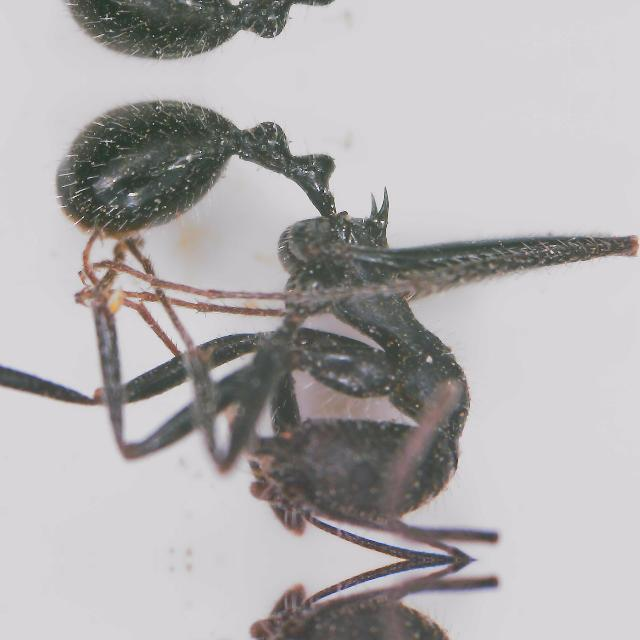Apheanogaster: (16, 88, 564, 558)
